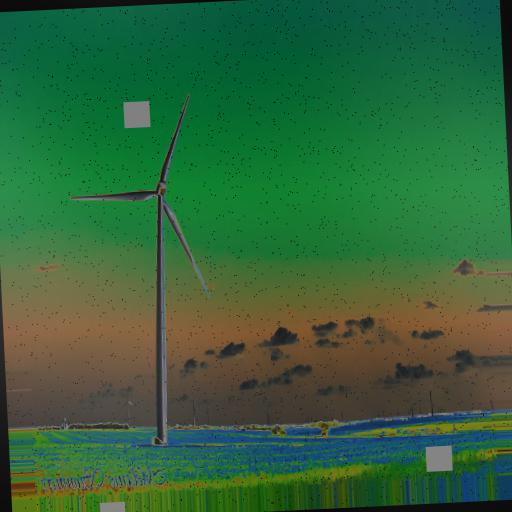wind turbine: (65, 94, 211, 442)
